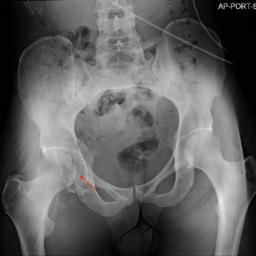cancer: (60, 134, 98, 196)
